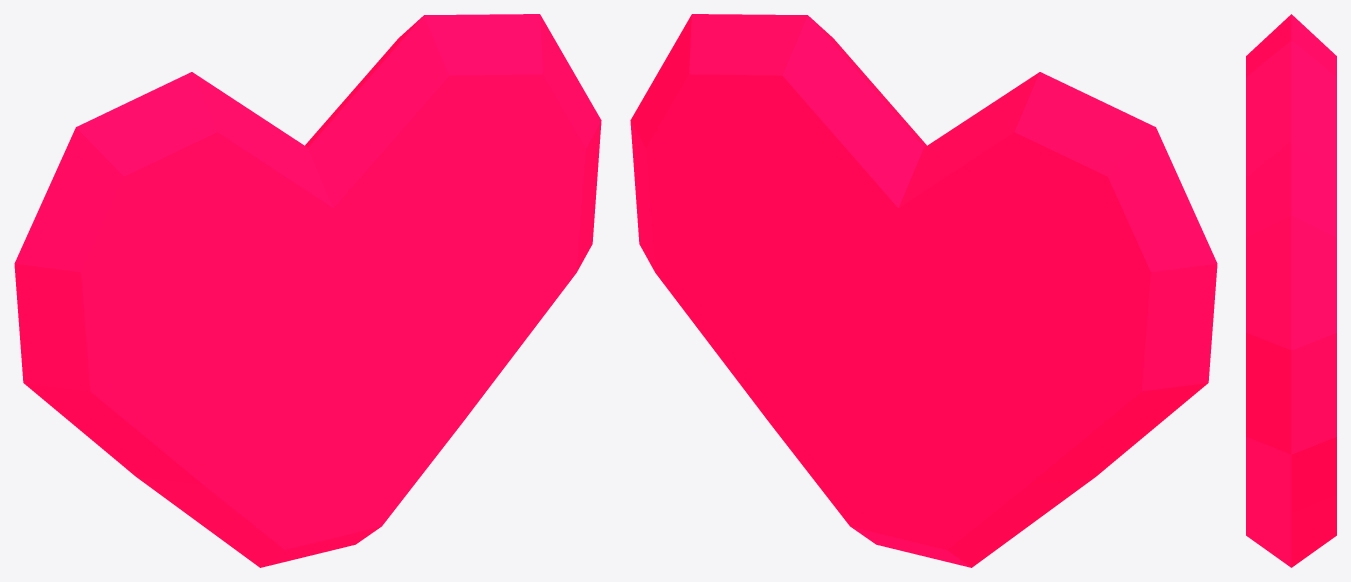
The model's file is heart.gltf.
The picture shows the model from 3 angles, left to right: view 1: azimuth 30°, elevation 25°; view 2: azimuth 150°, elevation 25°; view 3: azimuth 270°, elevation 25°; orthographic projection. The views are drawn at different scales.
Visible parts, largest first — view 1: Heart; view 2: Heart; view 3: Heart.
Part boxes in pixels (<box>): Heart: <box>14,14,601,567</box>; Heart: <box>630,14,1217,567</box>; Heart: <box>1246,14,1336,567</box>.
Size of the model in its own units: 0.5561 by 0.4643 by 0.0837.
